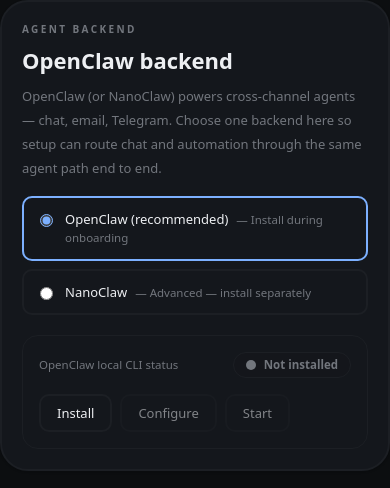
Test: OpenClawSection › clicking Install POSTs {action:'install'} and then refetches GET status
Click the button with test id "openclaw-install-button" at (76, 413), box [39,394,112,432]
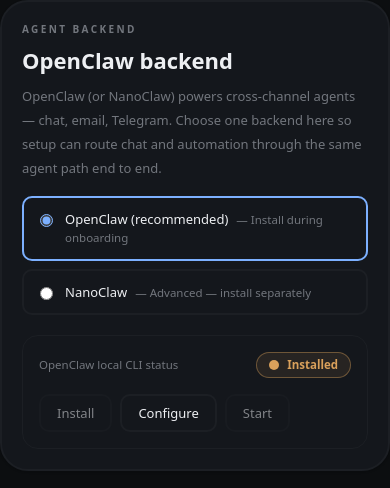
Expected: the element with test id "openclaw-status-pill" reads "Installed", [287,358,338,372]
